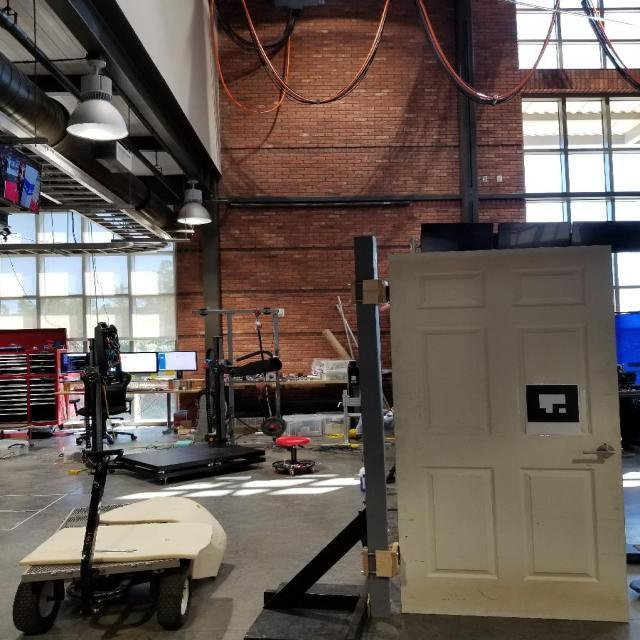door: (384, 243, 632, 625), (580, 441, 618, 466)
